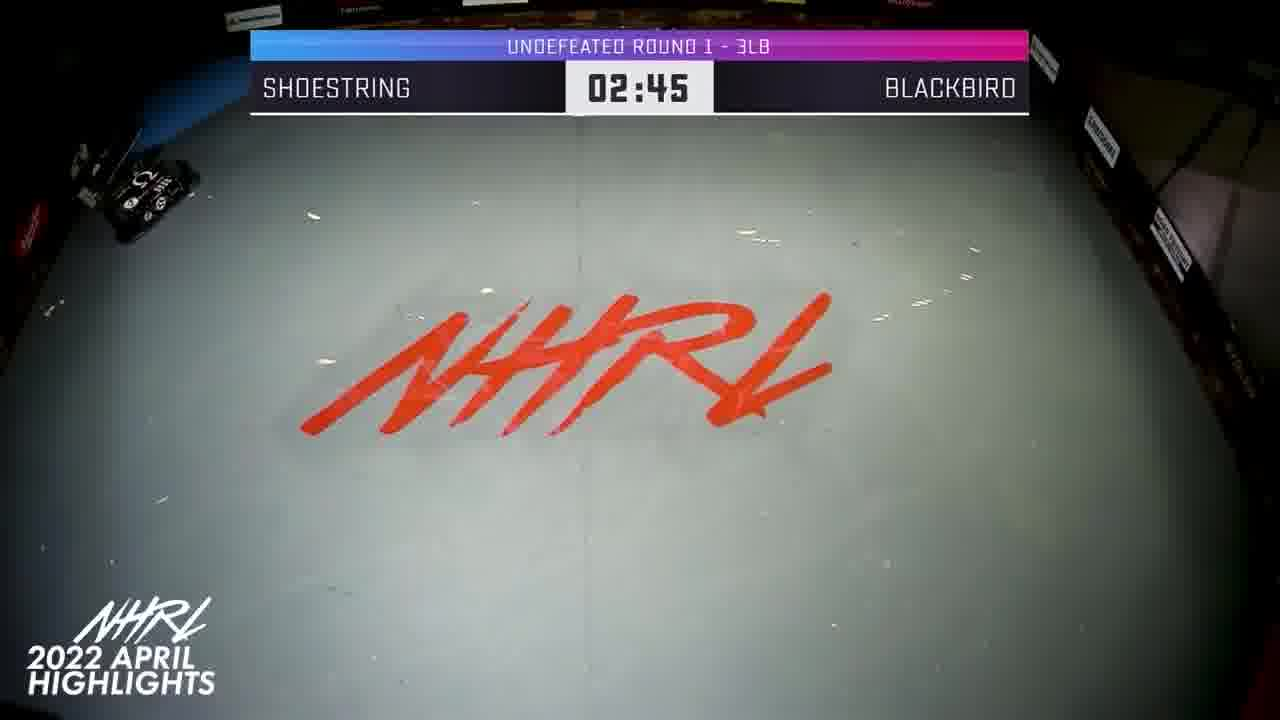combatbot: (90, 158, 203, 242)
